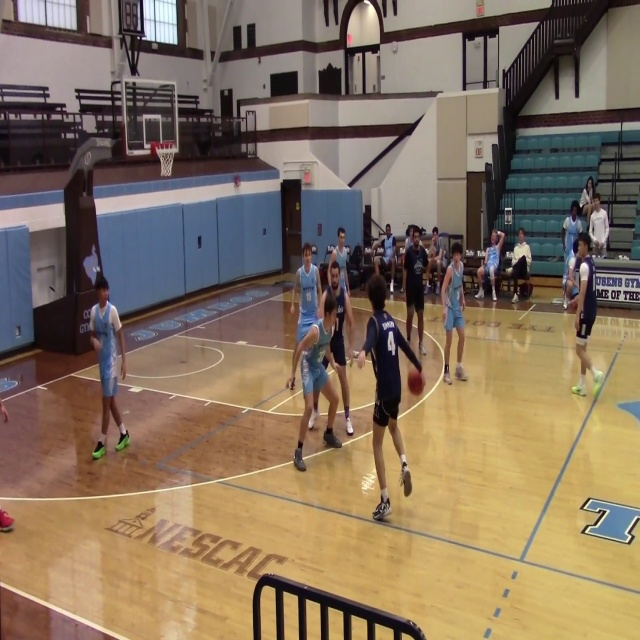Basketball: (407, 370, 425, 395), (568, 299, 578, 313)
